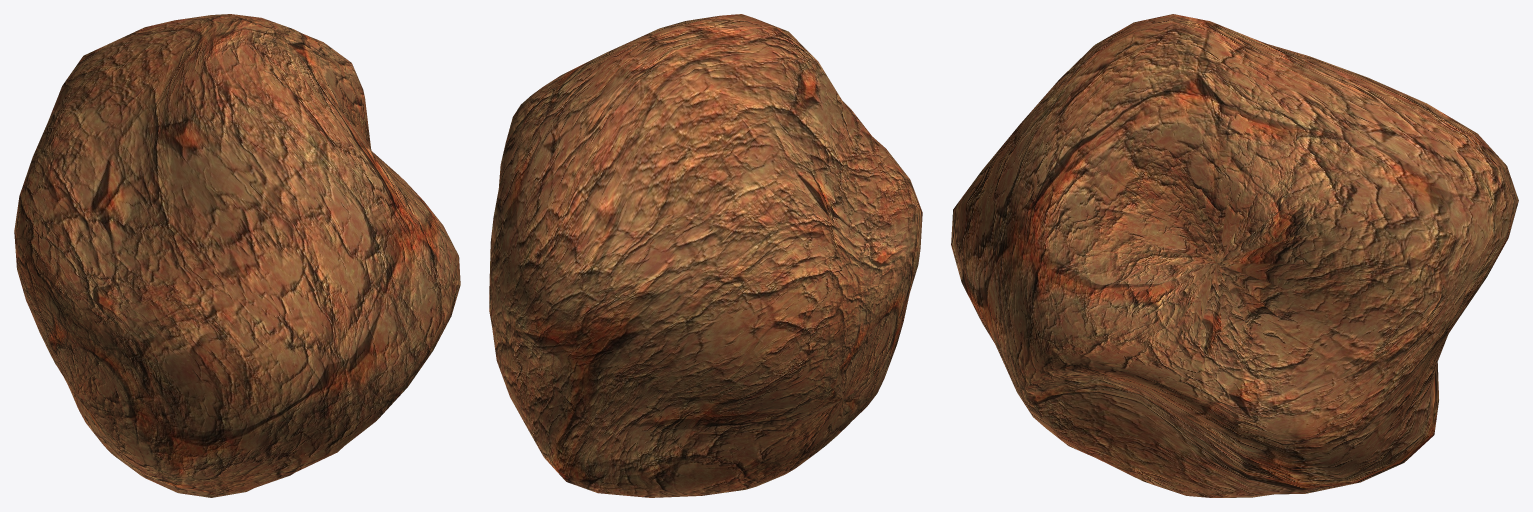
Rendered from Pedra_P.FBX.
3 renders of one model, left to right at view 1: azimuth 30°, elevation 25°; view 2: azimuth 150°, elevation 25°; view 3: azimuth 270°, elevation 25°, orthographic. The views are drawn at different scales.
Parts seen in each view (by area): view 1: Sphere003; view 2: Sphere003; view 3: Sphere003.
Part boxes in pixels (box(x1,y1,x2,y2)): Sphere003: box(14, 14, 460, 497); Sphere003: box(489, 14, 922, 497); Sphere003: box(951, 14, 1518, 497).
Bounding box in the file's own units: 9.45 × 11.5 × 12.51.
